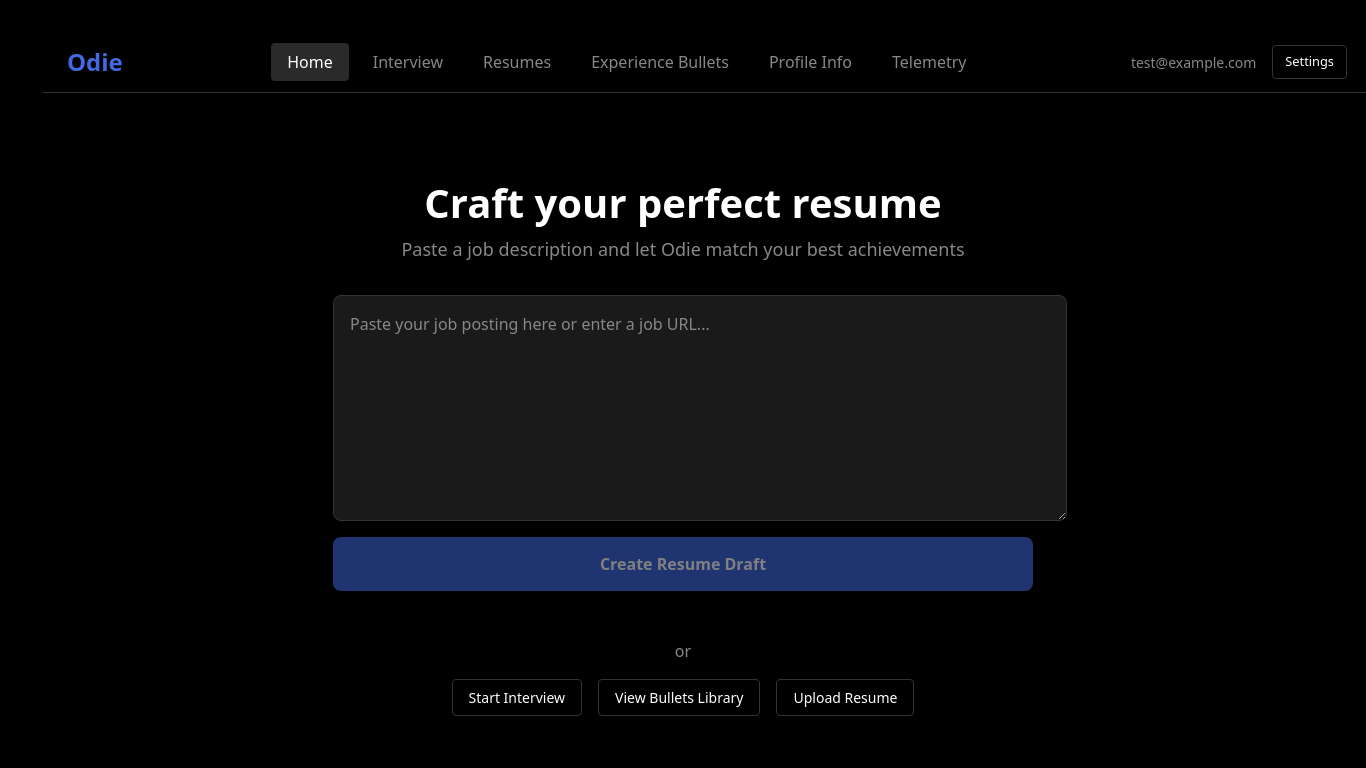
Test: HomePage › should enable submit button when text is entered
Type "Looking for a software engineer..." into the text box with test id "jd-input" at (700, 408), box [333,294,1067,520]
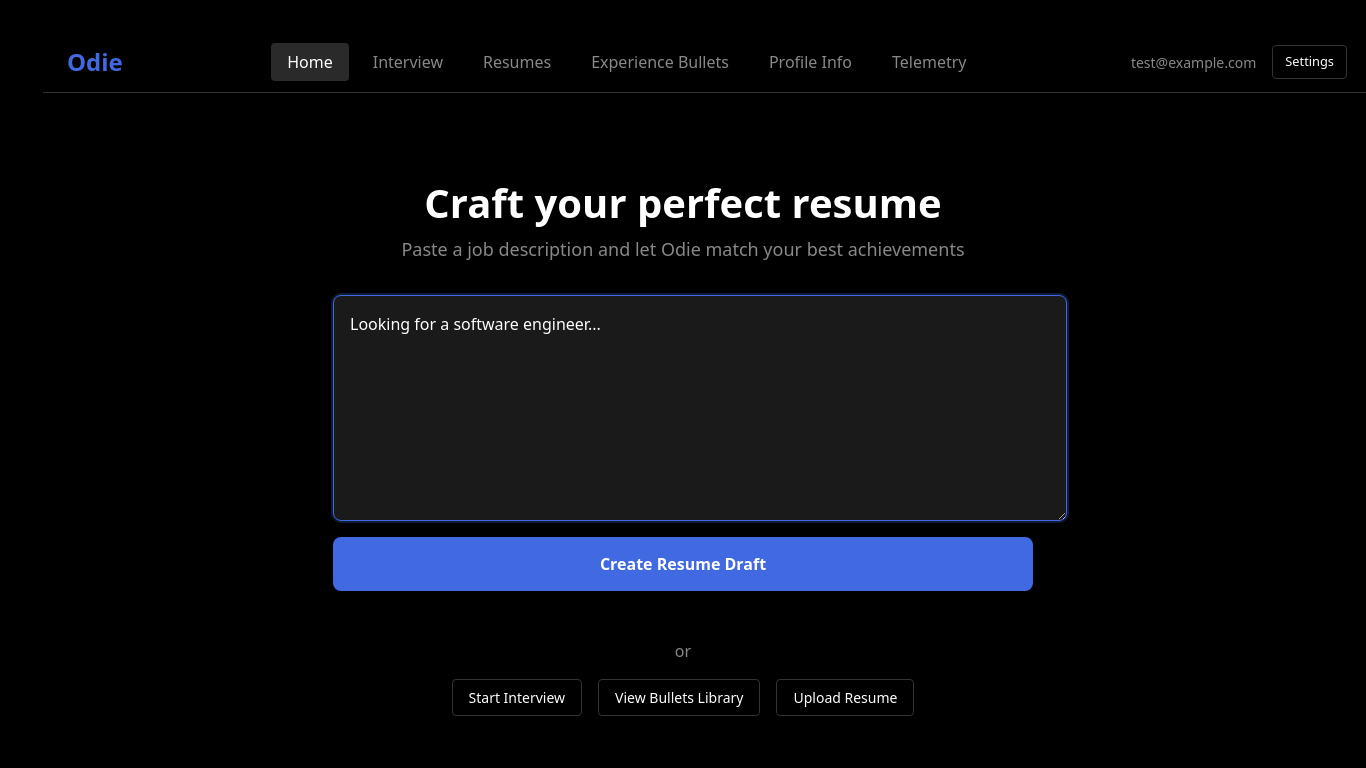
Check: the button with test id "jd-submit" is enabled, box [333,536,1033,590]
